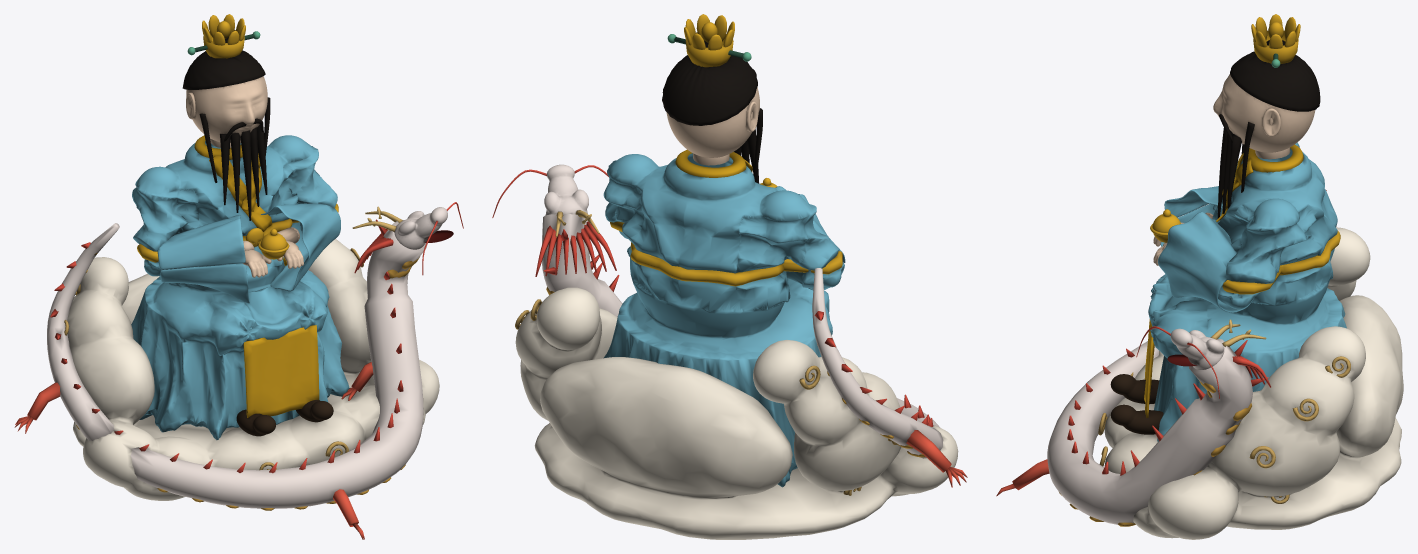
Rendered from lingbao.glb.
3 renders of one model, left to right at view 1: azimuth 30°, elevation 25°; view 2: azimuth 150°, elevation 25°; view 3: azimuth 270°, elevation 25°, orthographic. The views are drawn at different scales.
Parts seen in each view (by area): view 1: LB_Robe, LB_Cloud, LB_DragonBody, LB_Apron, LB_SleeveL, LB_HeadMesh, LB_Beard, LB_SleeveR, LB_HairCap, LB_DragonLegs, LB_Crown, LB_DragonHead (+7 smaller); view 2: LB_Cloud, LB_Robe, LB_DragonBody, LB_HairCap, LB_Belt, LB_HeadMesh, LB_DragonMane, LB_Crown, LB_DragonHead, LB_DragonLegs, LB_Collar, LB_DragonFins (+2 smaller); view 3: LB_Cloud, LB_Robe, LB_DragonBody, LB_SleeveR, LB_HairCap, LB_HeadMesh, LB_Boots, LB_Crown, LB_Beard, LB_DragonHead, LB_Belt, LB_CloudGold (+8 smaller).
Part boxes in pixels (<box>): LB_Robe: <box>131,135,349,440</box>; LB_Cloud: <box>67,239,439,500</box>; LB_DragonBody: <box>47,220,427,508</box>; LB_Apron: <box>243,325,319,417</box>; LB_SleeveL: <box>157,215,249,303</box>; LB_HeadMesh: <box>186,76,267,143</box>; LB_Beard: <box>199,97,270,220</box>; LB_SleeveR: <box>261,203,340,291</box>; LB_HairCap: <box>182,50,265,89</box>; LB_DragonLegs: <box>14,362,373,539</box>; LB_Crown: <box>202,14,245,58</box>; LB_DragonHead: <box>394,207,447,249</box>; LB_Cloud: <box>515,287,958,539</box>; LB_Robe: <box>603,153,844,487</box>; LB_DragonBody: <box>542,214,943,458</box>; LB_HairCap: <box>662,55,757,125</box>; LB_Belt: <box>610,221,842,286</box>; LB_HeadMesh: <box>666,87,759,157</box>; LB_DragonMane: <box>492,165,616,276</box>; LB_Crown: <box>684,14,734,67</box>; LB_DragonHead: <box>544,164,588,215</box>; LB_DragonLegs: <box>906,430,967,487</box>; LB_Collar: <box>675,149,746,177</box>; LB_DragonFins: <box>543,229,933,426</box>; LB_Cloud: <box>1104,227,1403,539</box>; LB_Robe: <box>1148,142,1346,441</box>; LB_DragonBody: <box>1047,339,1252,524</box>; LB_SleeveR: <box>1158,212,1253,312</box>; LB_HairCap: <box>1230,51,1320,111</box>; LB_HeadMesh: <box>1213,74,1315,152</box>; LB_Boots: <box>1110,374,1163,434</box>; LB_Crown: <box>1251,14,1300,64</box>; LB_Beard: <box>1217,114,1254,218</box>; LB_DragonHead: <box>1170,328,1224,369</box>; LB_Belt: <box>1222,231,1340,294</box>; LB_CloudGold: <box>1098,356,1350,503</box>.
Size of the model in its own units: 2.38 by 2.27 by 1.8.
